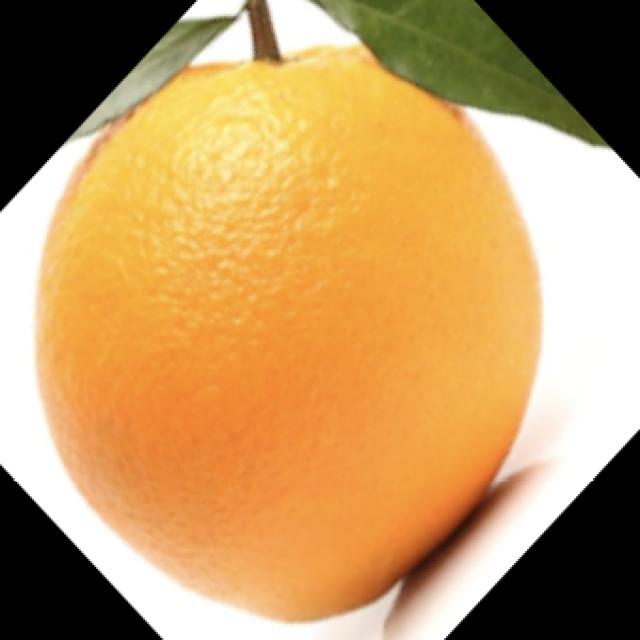orange: (52, 23, 570, 629)
